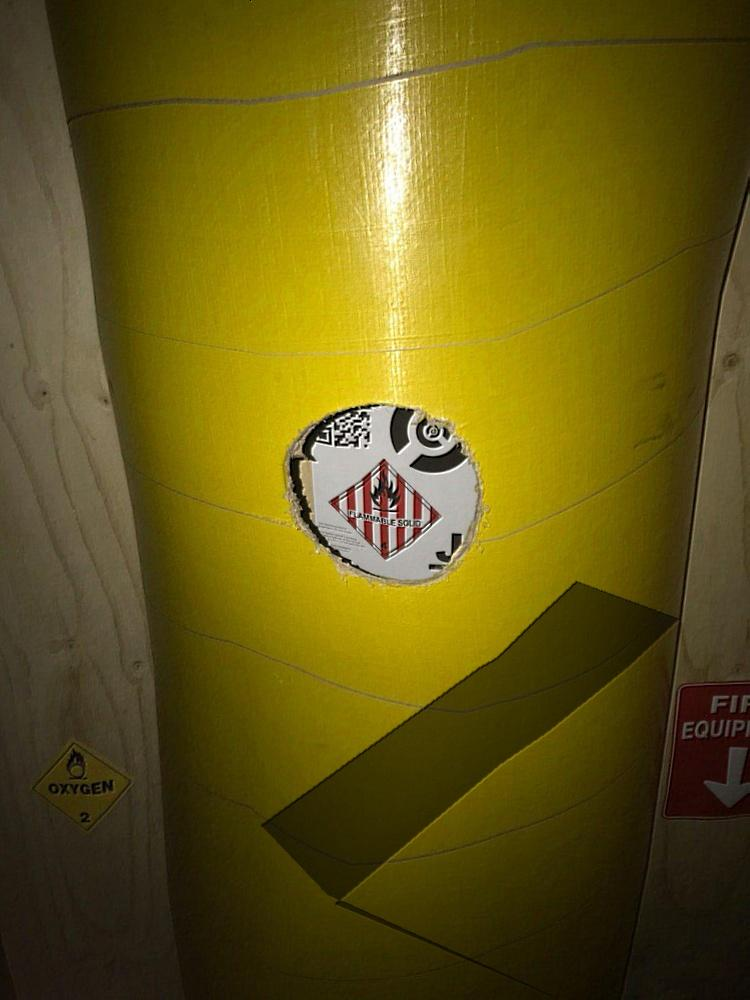flammable-solid: (326, 455, 447, 569)
oxidizer: (29, 723, 141, 832)
